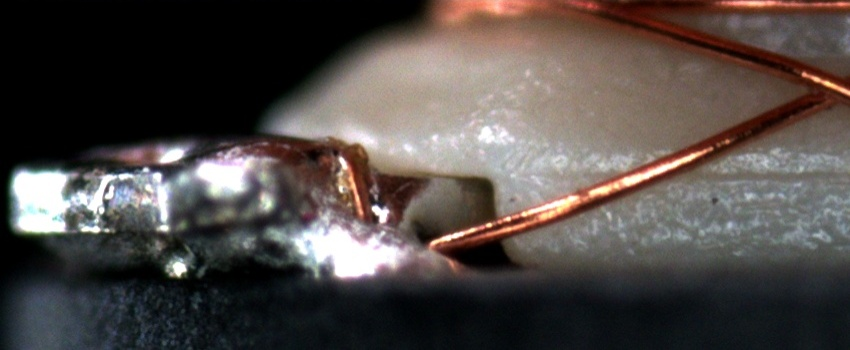CL: (779, 62, 847, 118)
DL: (537, 145, 850, 216)
TE: (327, 134, 384, 233)
